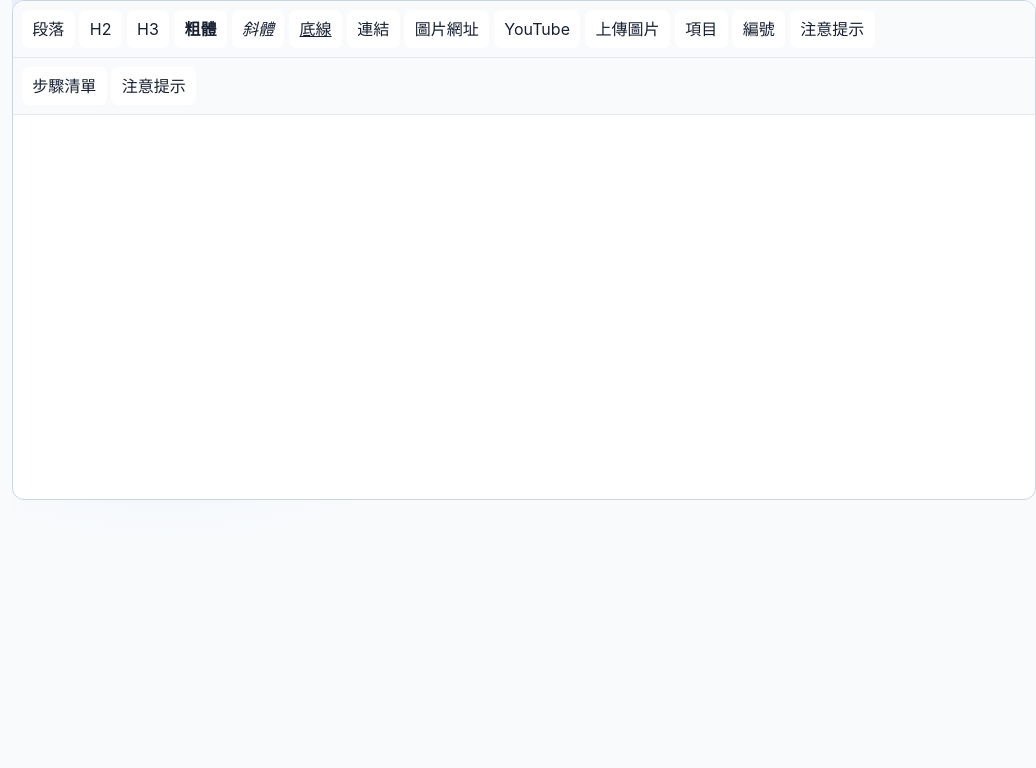
Scenario: RichTextEditor media controls › opens an inline URL field instead of using a browser prompt
Click the button "連結": (373, 29) [347,10,400,48]
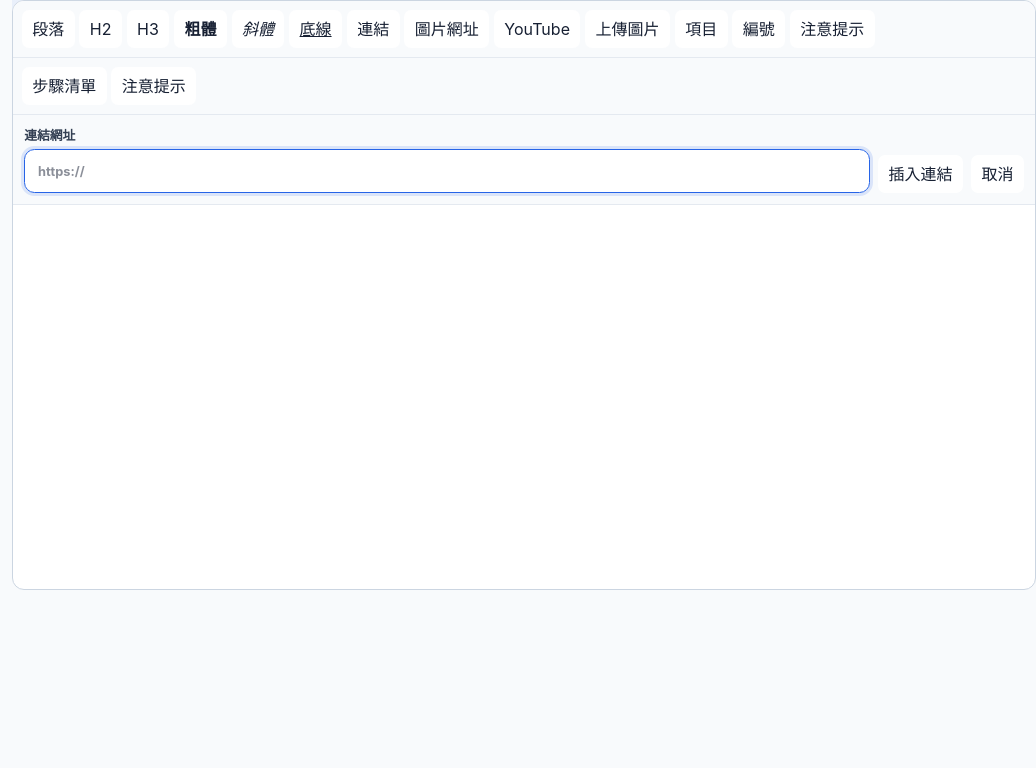
Check: the field labelled "連結網址" is shown, box [24,149,870,193]
Check: the button "插入連結" is shown, box [878,154,963,193]
